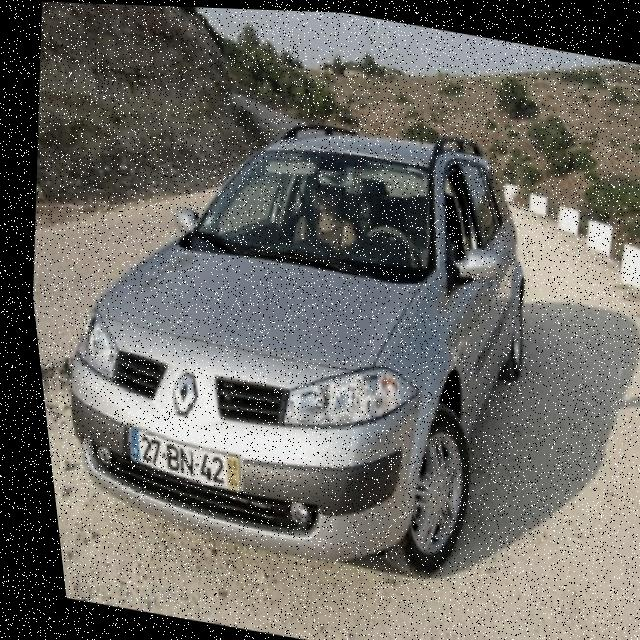license_plate: (112, 426, 237, 496)
